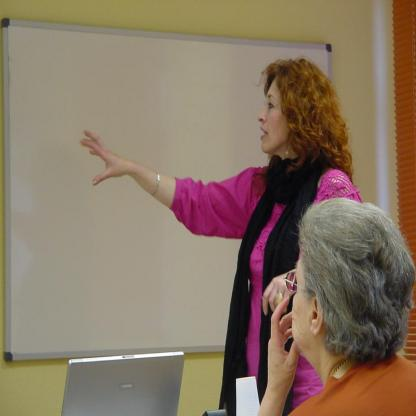board: (54, 350, 198, 410)
